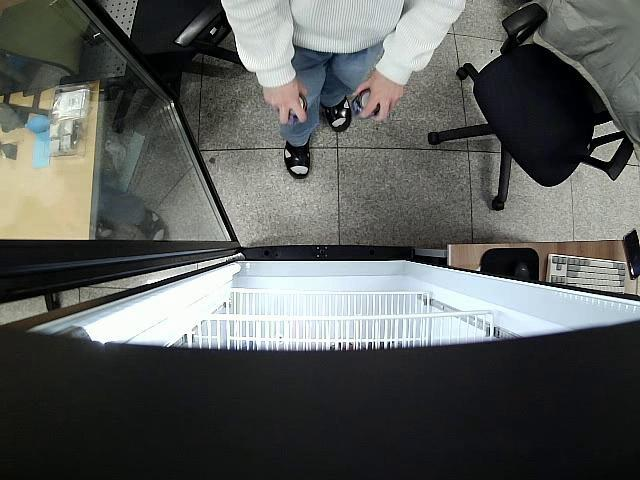14_welchsGrape: (351, 90, 378, 118), (289, 94, 308, 126)
